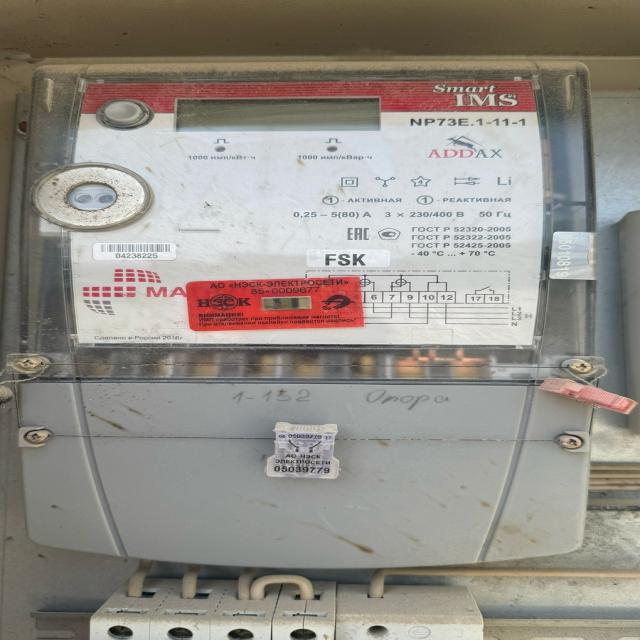Display: (178, 98, 382, 132)
meter_matrica: (67, 78, 553, 352)
meter_number: (92, 242, 180, 262)
seal_elso: (266, 421, 346, 482)
seal_imp: (182, 277, 366, 331)
